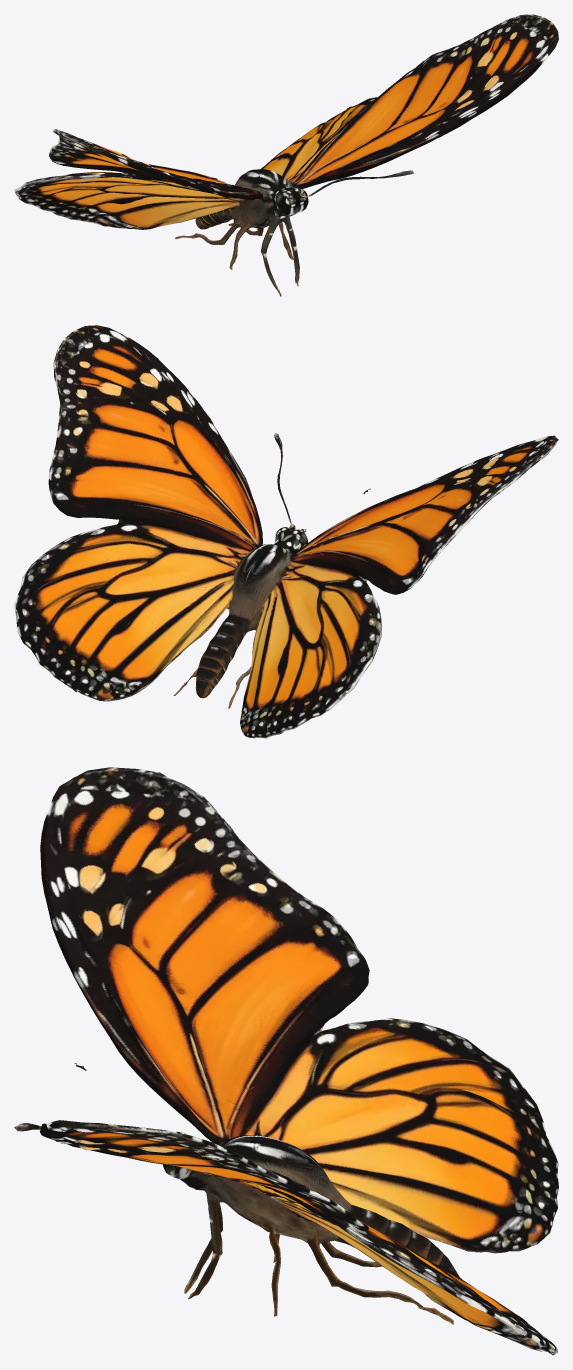
The model's file is butterfly.glb.
3 views of the same model, one above another, from view 1: azimuth 30°, elevation 25°; view 2: azimuth 150°, elevation 25°; view 3: azimuth 270°, elevation 25° (orthographic). The views are drawn at different scales.
Visible parts, largest first — view 1: Mesh0; view 2: Mesh0; view 3: Mesh0.
Part boxes in pixels (box(x1,y1,x2,y2)): Mesh0: box(14, 14, 558, 296); Mesh0: box(14, 325, 558, 738); Mesh0: box(14, 767, 558, 1355).
Bounding box in the file's own units: 1.9 × 0.8809 × 1.22.
1 material, 1 textured.
